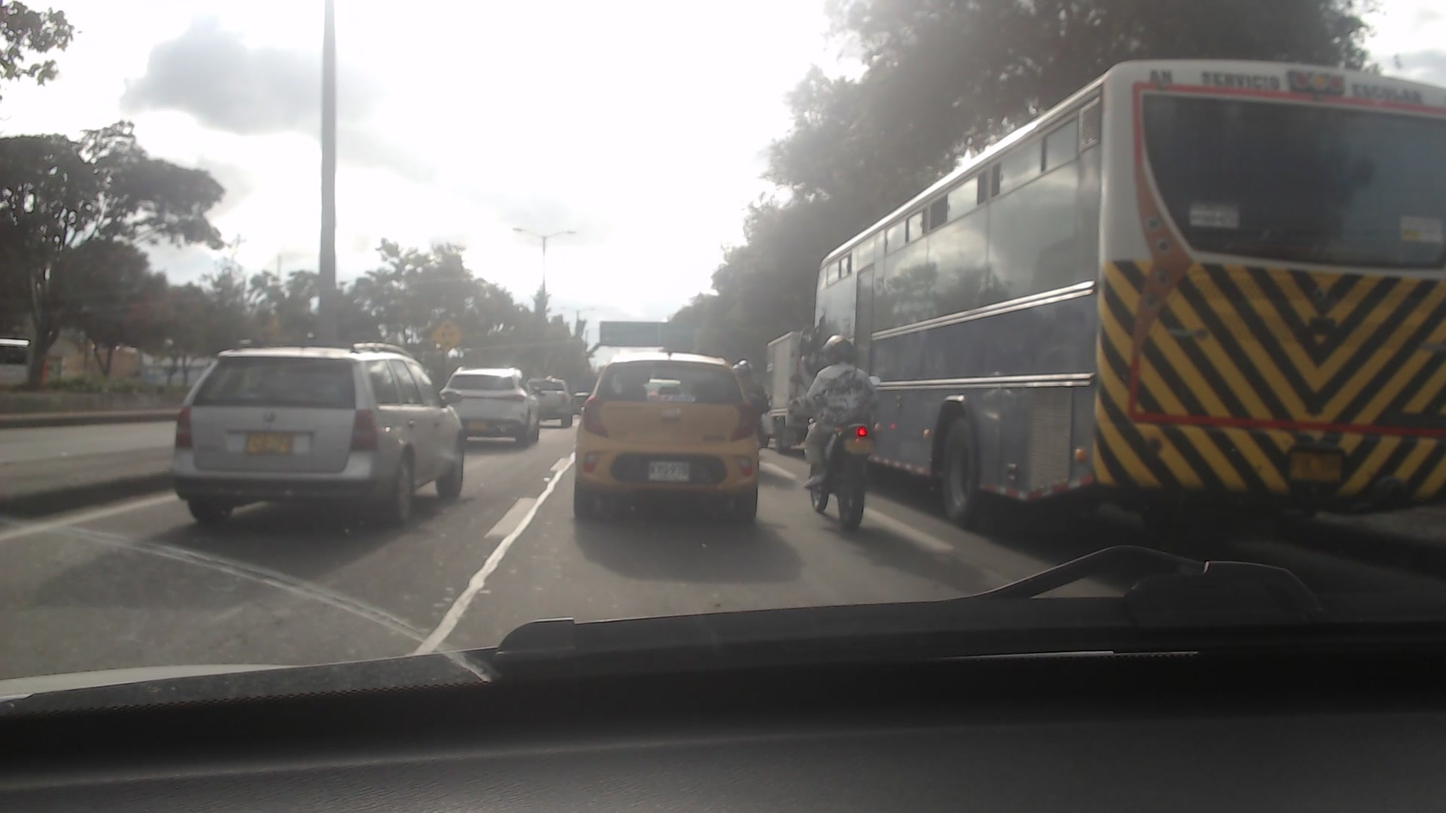bus: (812, 66, 1444, 550)
car: (169, 348, 467, 516), (571, 353, 765, 524), (439, 370, 542, 444), (529, 376, 568, 423)
motorcycle: (794, 419, 883, 525)
person: (806, 338, 876, 479)
